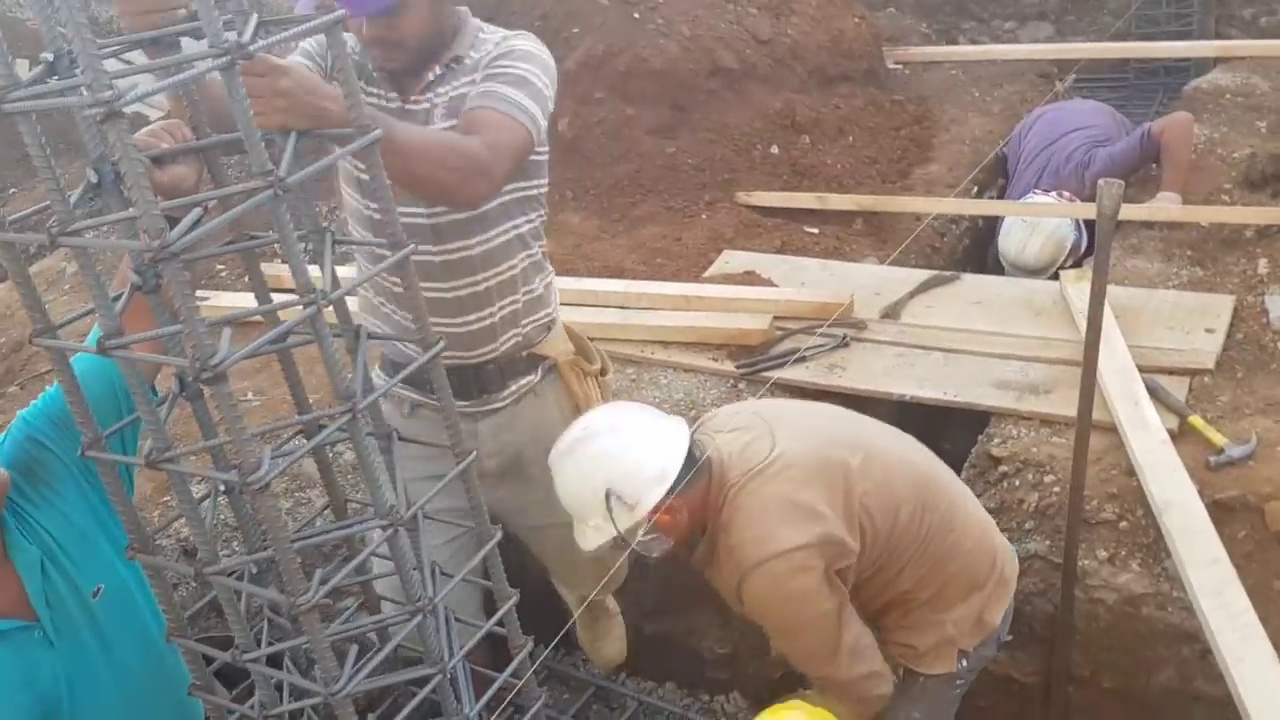helmet: (543, 398, 690, 551), (996, 196, 1078, 277)
helmet-off: (295, 0, 472, 89)
helmet-on: (546, 397, 723, 569), (997, 178, 1093, 278)
person: (121, 4, 634, 668), (540, 387, 1017, 669), (3, 113, 204, 716), (1001, 95, 1193, 282)
